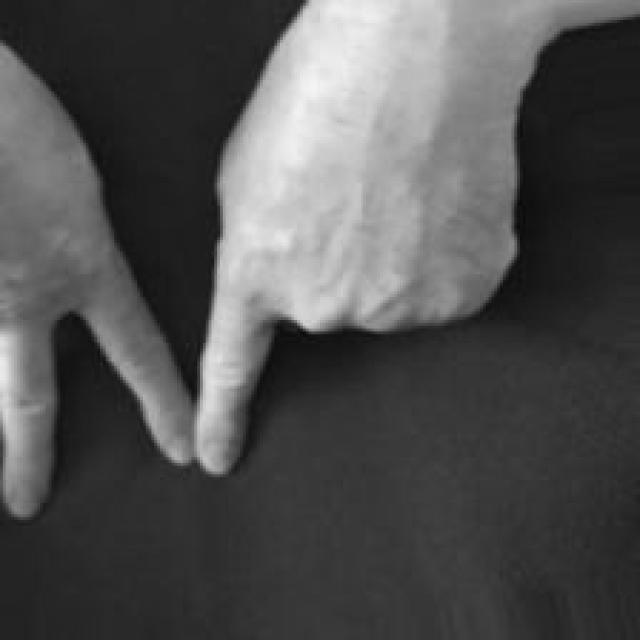N: (2, 36, 522, 524)
